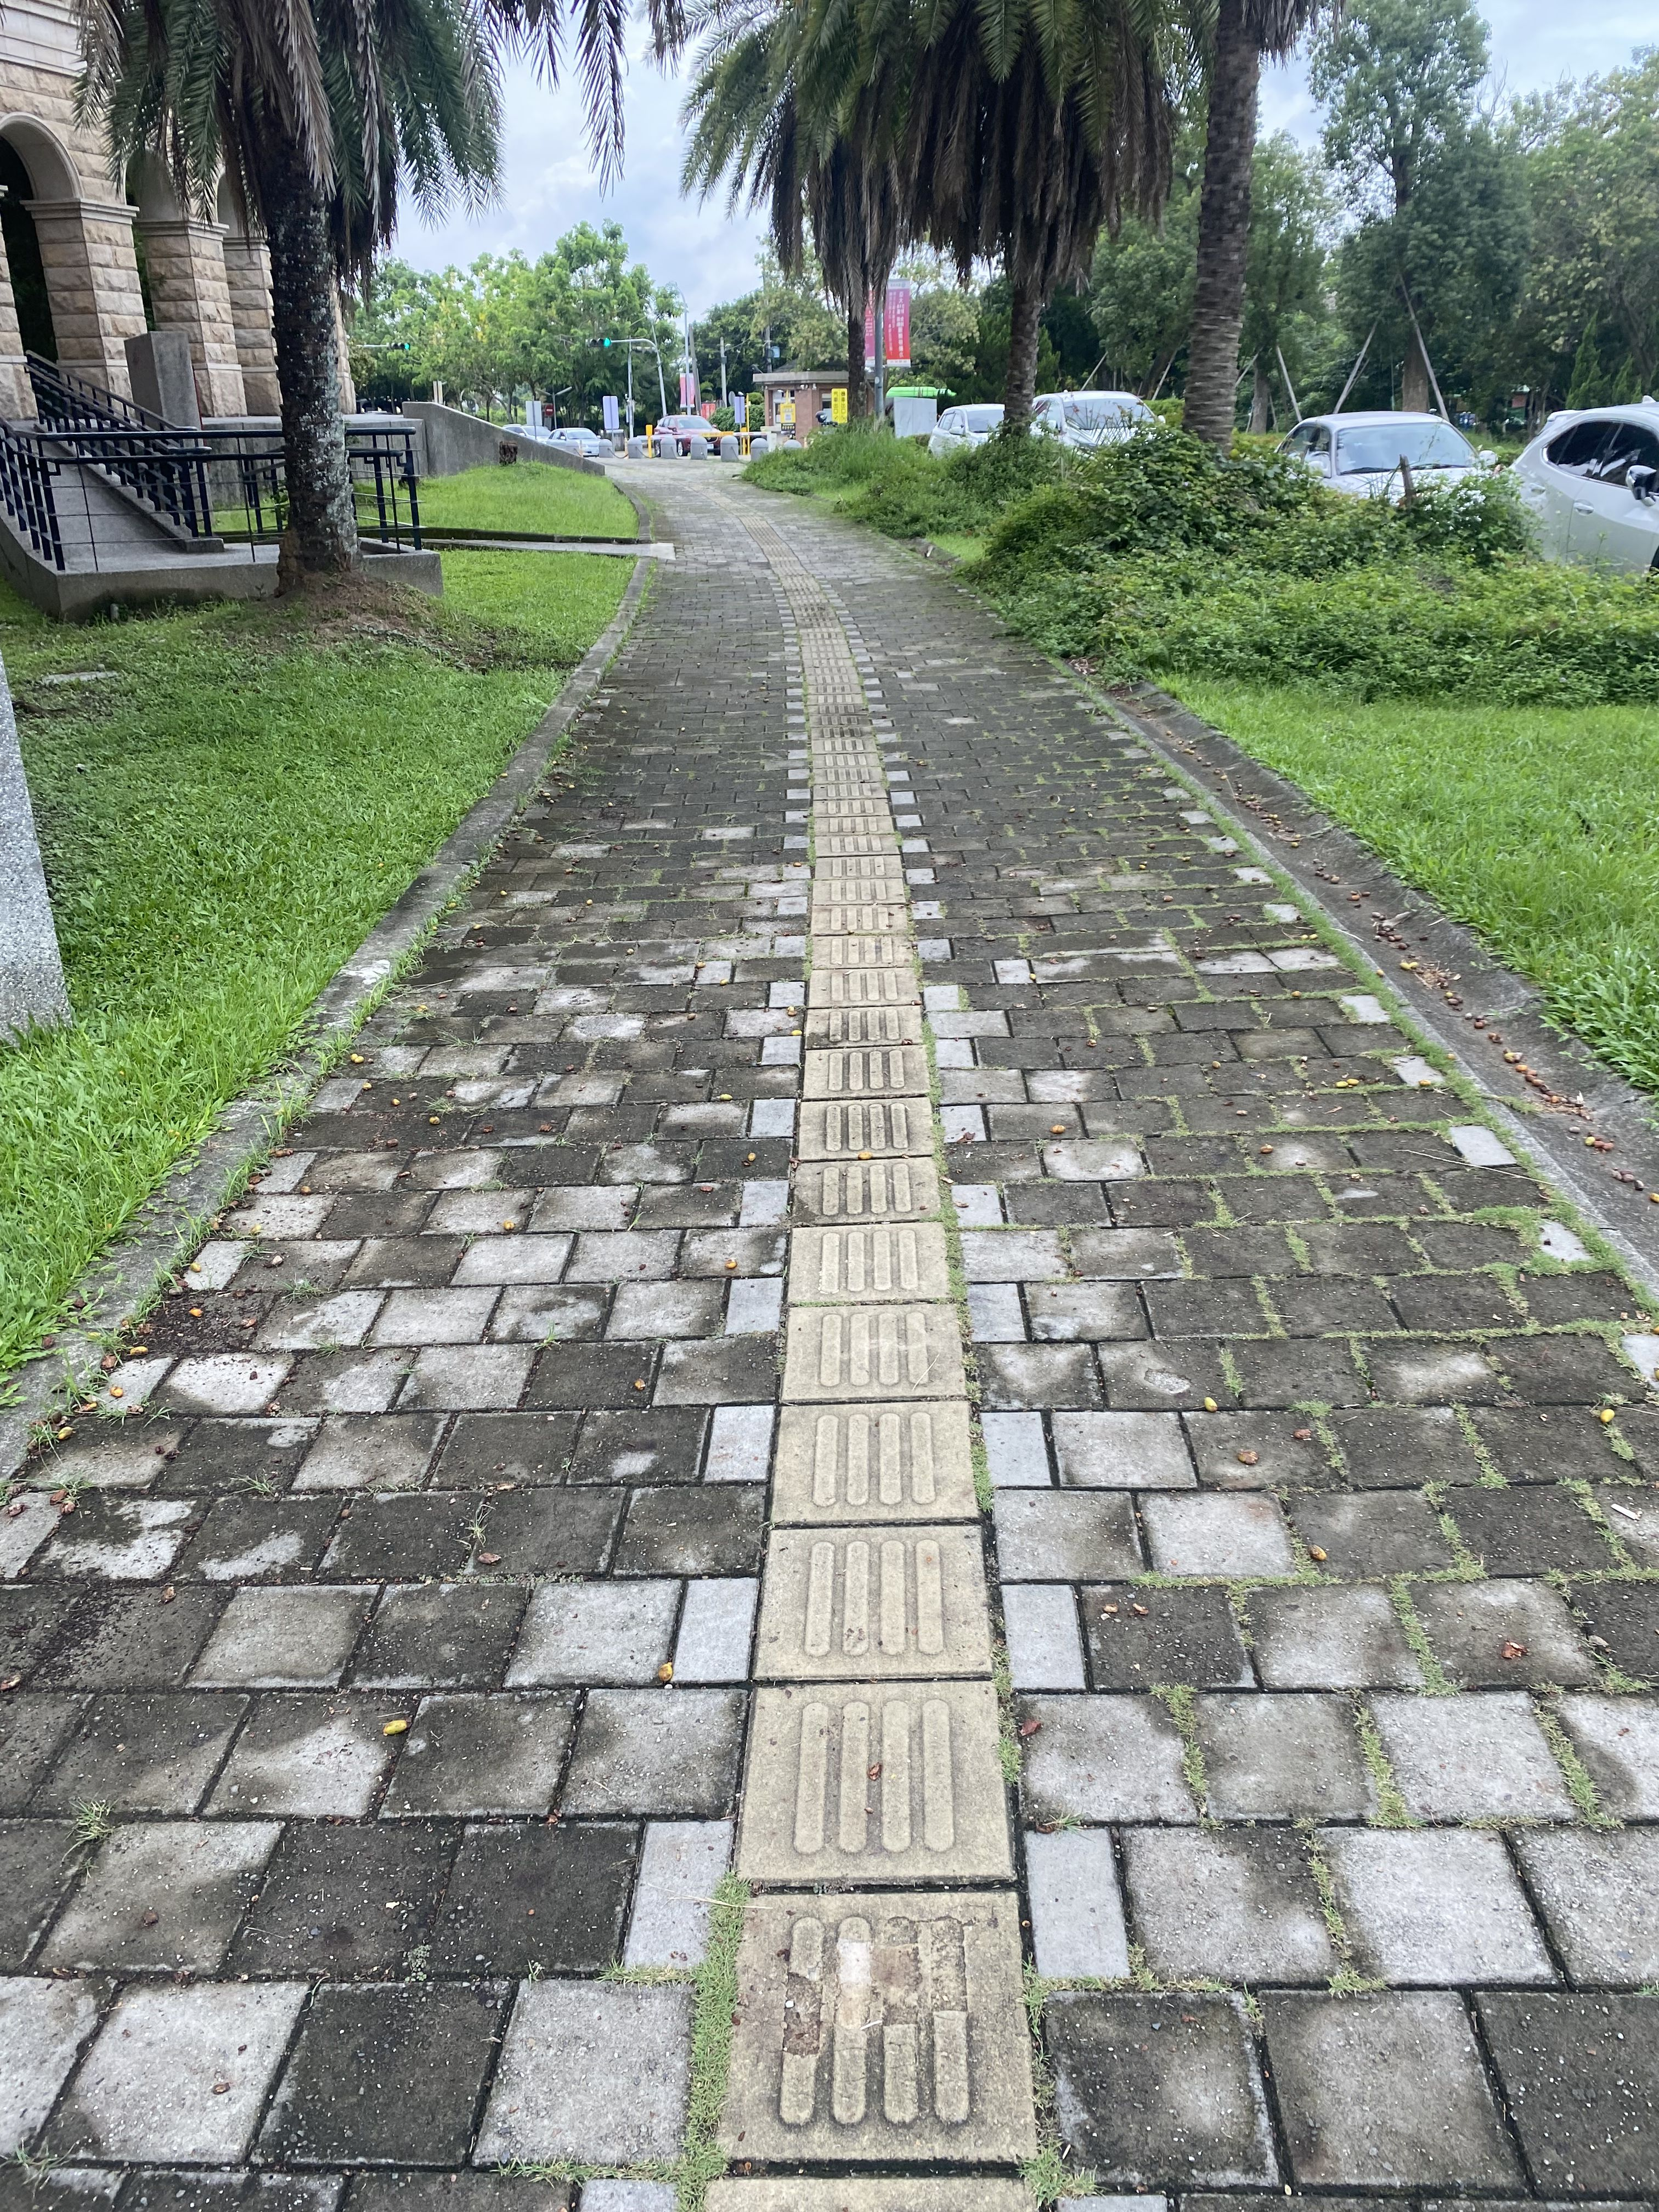0: (0, 759, 1659, 2212)
sidewalk: (538, 421, 1243, 1352)
